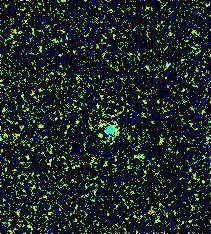star: (87, 120, 117, 150)
